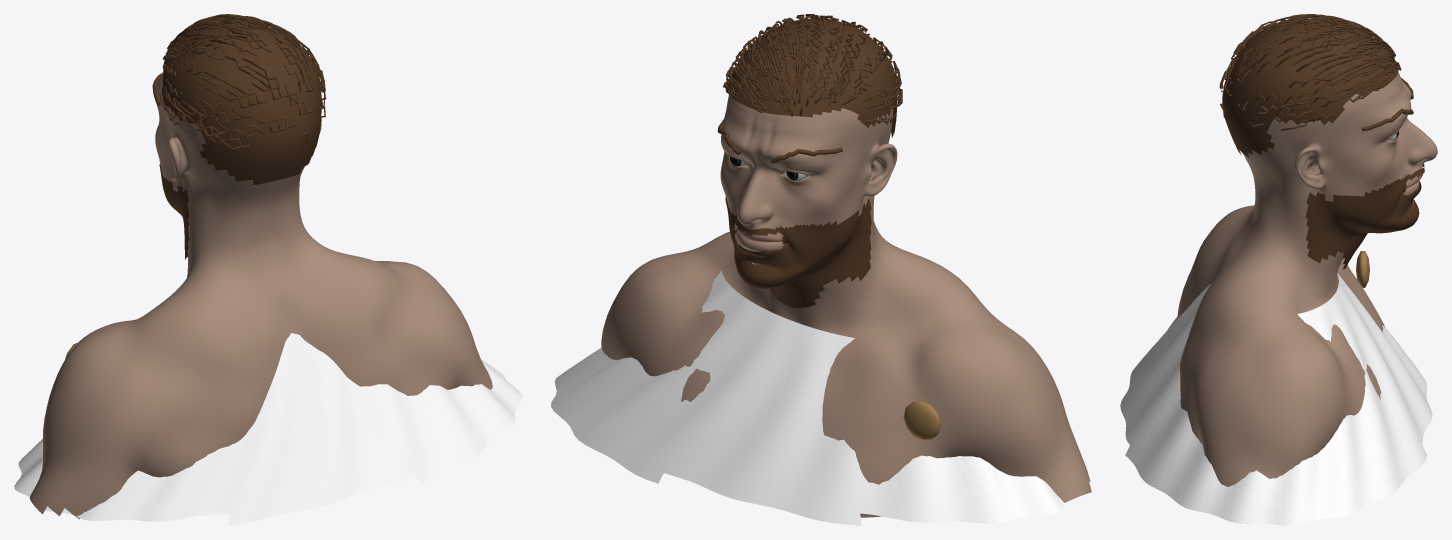
File: envoy_031.glb
3 views of the same model, side by side, from view 1: azimuth 30°, elevation 25°; view 2: azimuth 150°, elevation 25°; view 3: azimuth 270°, elevation 25° (orthographic). The views are drawn at different scales.
Parts seen in each view (by area): view 1: Envoy 031 body, Folded shoulder mantle, Envoy 031 fitted scalp, Envoy 031 fitted beard; view 2: Envoy 031 body, Folded shoulder mantle, Envoy 031 fitted scalp, Envoy 031 fitted beard, Shoulder clasp; view 3: Envoy 031 body, Folded shoulder mantle, Envoy 031 fitted scalp, Envoy 031 fitted beard, Shoulder clasp.
Boxes of the visible parts, x1,y1,x2,y2 form: Envoy 031 body: (29,70,492,519); Folded shoulder mantle: (14,333,522,525); Envoy 031 fitted scalp: (162,19,321,184); Envoy 031 fitted beard: (159,161,189,259); Envoy 031 body: (601,94,1091,517); Folded shoulder mantle: (551,270,1087,525); Envoy 031 fitted scalp: (728,18,897,137); Envoy 031 fitted beard: (725,196,871,308); Shoulder clasp: (903,401,941,439); Envoy 031 body: (1177,72,1437,523); Folded shoulder mantle: (1120,273,1432,525); Envoy 031 fitted scalp: (1222,18,1398,157); Envoy 031 fitted beard: (1305,164,1424,269); Shoulder clasp: (1356,251,1369,287).
Size of the model in its own units: 0.3039 by 0.2465 by 0.1797.
